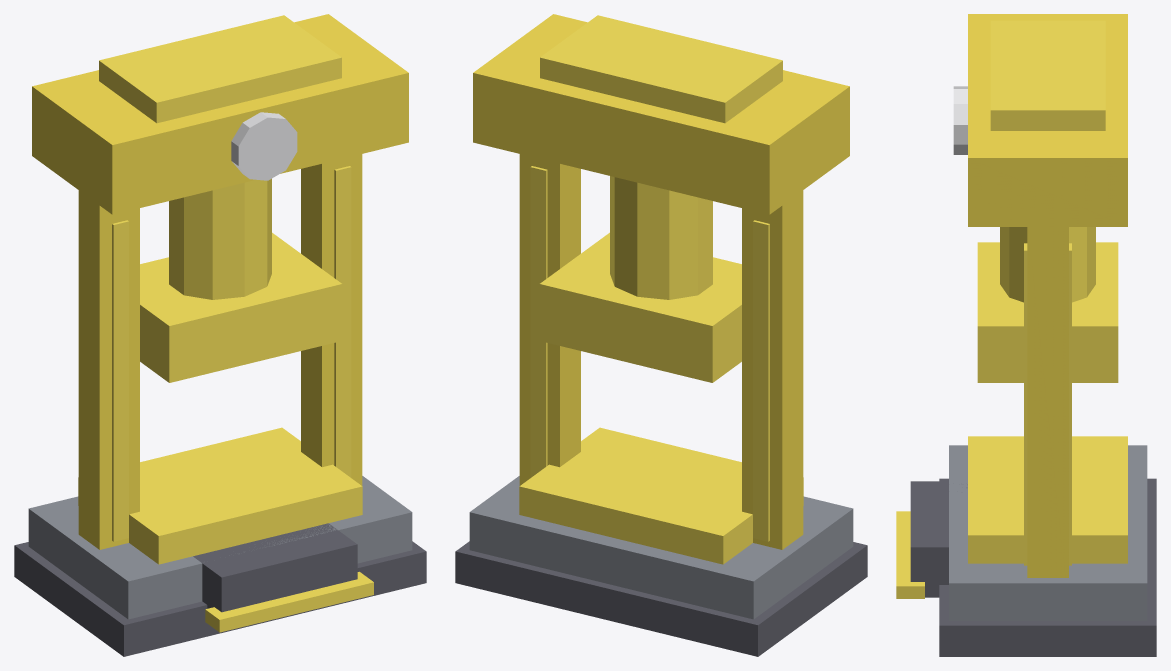
Rendered from press_gold.glb.
3 views of the same model, side by side, from view 1: azimuth 30°, elevation 25°; view 2: azimuth 150°, elevation 25°; view 3: azimuth 270°, elevation 25° (orthographic).
Visible parts, largest first — view 1: press_gold; view 2: press_gold; view 3: press_gold.
Boxes of the visible parts, <box> form: press_gold: <box>14,14,426,656</box>; press_gold: <box>455,14,867,656</box>; press_gold: <box>896,14,1156,656</box>.
Size of the model in its own units: 1 by 1.64 by 0.75.
